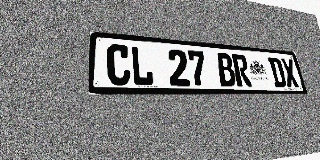2: (167, 49, 190, 86)
7: (186, 50, 209, 86)
B: (215, 53, 237, 87)
C: (107, 44, 131, 85)
D: (267, 57, 287, 87)
L: (130, 46, 154, 86)
R: (231, 54, 252, 87)
X: (280, 58, 300, 87)
